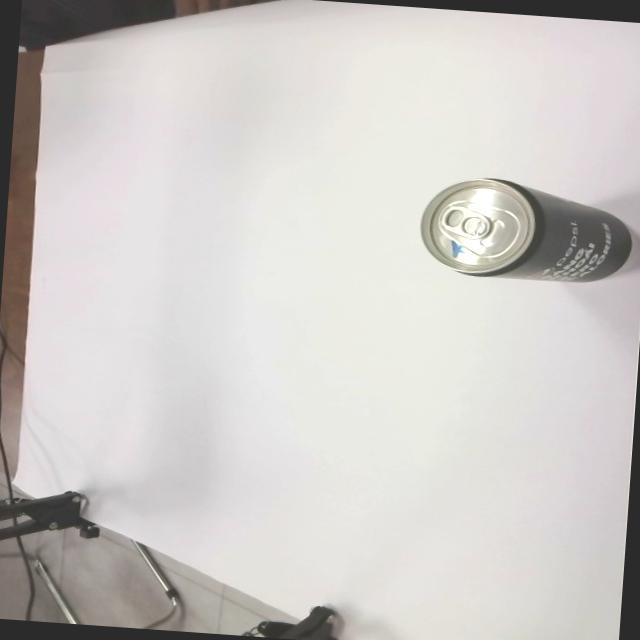debris: (416, 170, 636, 288)
